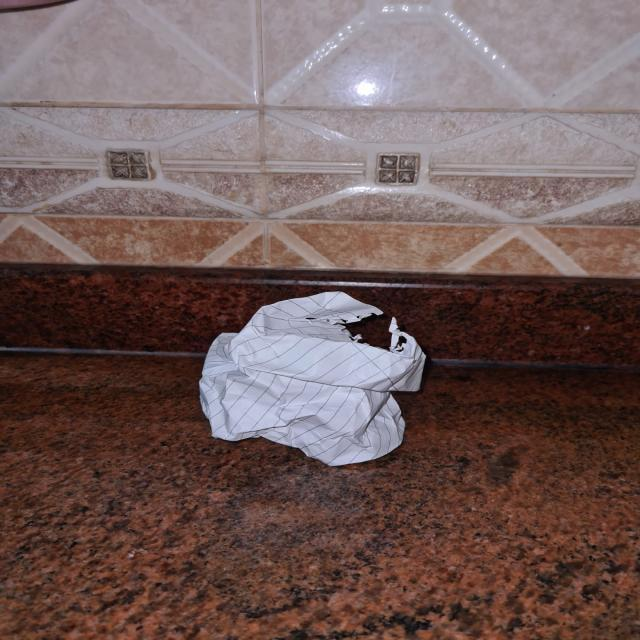Paper: (208, 295, 420, 458)
